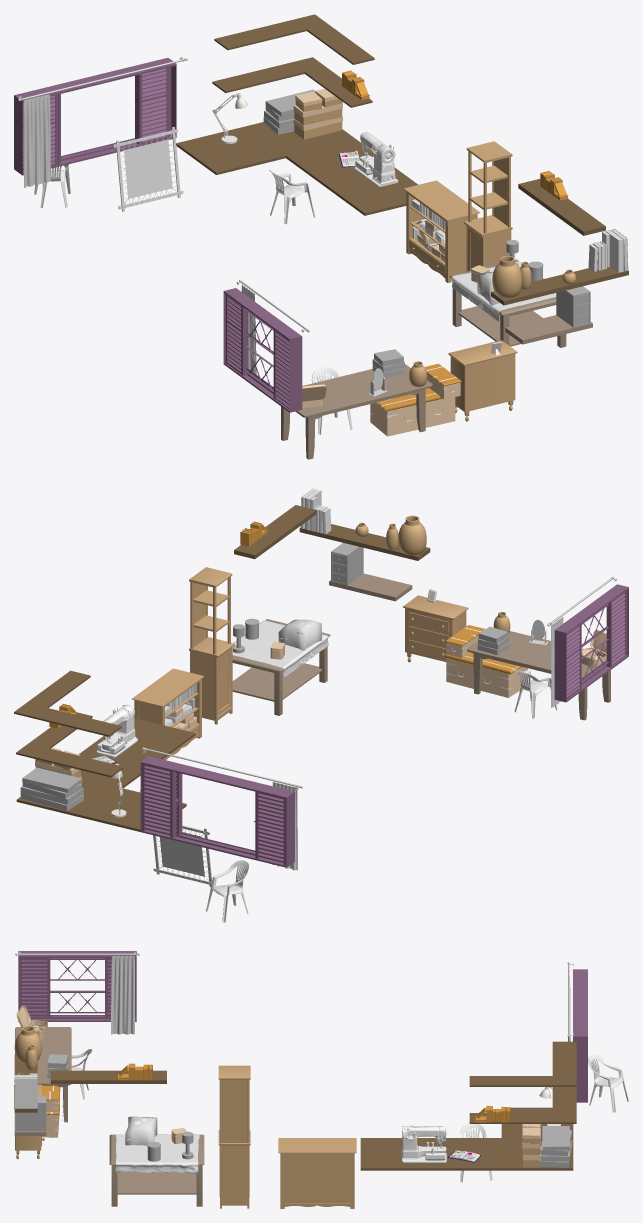
File: Itens Grandes.fbx
The picture shows the model from 3 angles, top to bottom: view 1: azimuth 30°, elevation 25°; view 2: azimuth 150°, elevation 25°; view 3: azimuth 270°, elevation 25°; orthographic projection. The views are drawn at different scales.
Visible parts, largest first — view 1: Janela 2, Janela 1, Mesa_1, Prateleira_3, Mesa_3, Cube__0, Tabua de Filé, Mesa_2, Prateleira_7, Prateleira_6, Cortina 2, Table_Baked_Table_Baked_0 (+10 smaller); view 2: Janela 2, Prateleira_3, Janela 1, Mesa_1, Table_Baked_Table_Baked_0, Mesa_3, Prateleira_7, Tabua de Filé, Prateleira_6, Fabric_Baked_Fabric_Baked_0, Cube__0, Shelf_Shelf2_1_0 (+13 smaller); view 3: Mesa_1, Prateleira_3, Janela 1, Shelf_Shelf2_2_0, Table_Baked_Table_Baked_0, Fabric_Baked_Fabric_Baked_0, Prateleira_7, Cortina 1, Janela 2, Prateleira_6, Mesa_3, Shelf_Shelf2_1_0 (+16 smaller).
Part boxes in pixels (box(x1,y1,x2,y2)): Janela 2: box(14, 57, 176, 175); Janela 1: box(223, 288, 302, 412); Mesa_1: box(246, 122, 418, 215); Prateleira_3: box(464, 141, 512, 271); Mesa_3: box(281, 364, 432, 459); Cube__0: box(448, 340, 517, 412); Tabua de Filé: box(113, 127, 183, 211); Mesa_2: box(176, 126, 285, 174); Prateleira_7: box(214, 14, 374, 64); Prateleira_6: box(212, 57, 372, 107); Cortina 2: box(23, 94, 50, 187); Table_Baked_Table_Baked_0: box(449, 259, 566, 347); Janela 2: box(140, 756, 294, 867); Prateleira_3: box(189, 567, 234, 724); Janela 1: box(554, 584, 628, 702); Mesa_1: box(16, 718, 195, 817); Table_Baked_Table_Baked_0: box(232, 619, 330, 715); Mesa_3: box(467, 631, 610, 720); Prateleira_7: box(14, 670, 121, 736); Tabua de Filé: box(153, 825, 212, 887); Prateleira_6: box(16, 712, 123, 777); Fabric_Baked_Fabric_Baked_0: box(232, 620, 328, 677); Cube__0: box(403, 595, 468, 661); Shelf_Shelf2_1_0: box(132, 668, 204, 760); Mesa_1: box(360, 1138, 573, 1170); Prateleira_3: box(218, 1065, 250, 1208); Janela 1: box(18, 951, 136, 1021); Shelf_Shelf2_2_0: box(280, 1153, 354, 1208); Table_Baked_Table_Baked_0: box(109, 1134, 204, 1206); Fabric_Baked_Fabric_Baked_0: box(115, 1134, 199, 1173); Prateleira_7: box(469, 1041, 576, 1086); Cortina 1: box(111, 956, 134, 1034); Janela 2: box(573, 969, 587, 1102); Prateleira_6: box(469, 1087, 576, 1123); Mesa_3: box(15, 1027, 71, 1122); Shelf_Shelf2_1_0: box(278, 1138, 356, 1206).
Size of the model in its own units: 4842 by 2206 by 8552.
